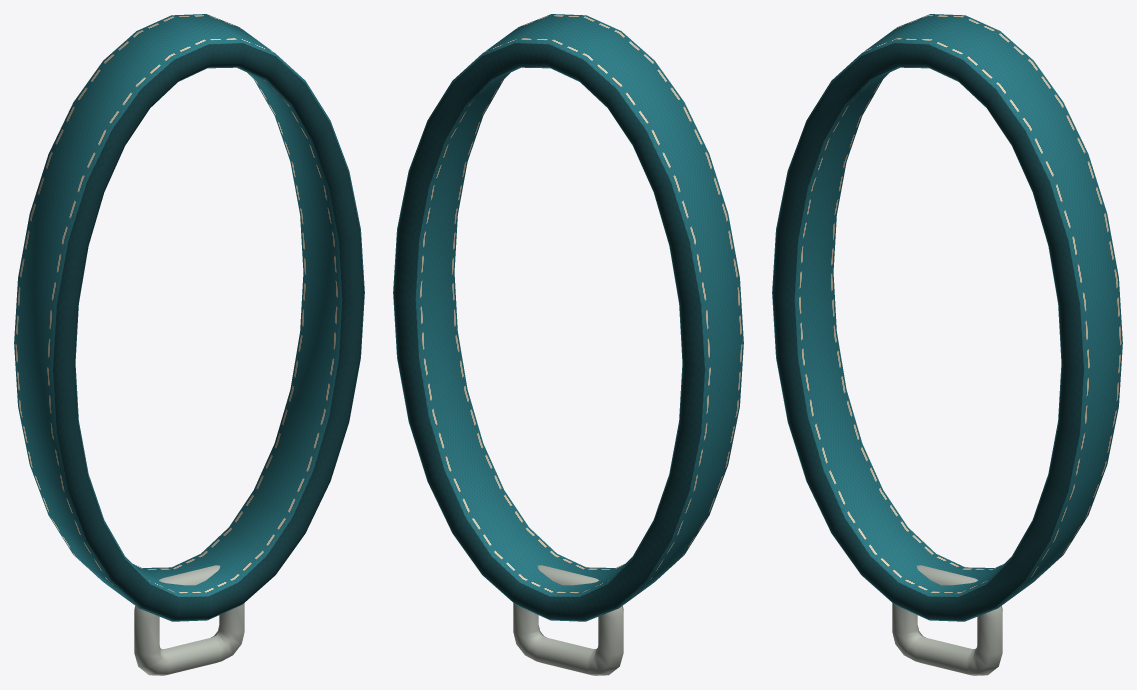
The model's file is KH_LeashHandle.fbx.
3 renders of one model, left to right at view 1: azimuth 30°, elevation 25°; view 2: azimuth 150°, elevation 25°; view 3: azimuth 330°, elevation 25°, orthographic.
Visible parts, largest first — view 1: KH_LeashHandle; view 2: KH_LeashHandle; view 3: KH_LeashHandle.
Part boxes in pixels (x1=…): KH_LeashHandle: x1=14, y1=14, x2=364, y2=675; KH_LeashHandle: x1=393, y1=14, x2=743, y2=675; KH_LeashHandle: x1=772, y1=14, x2=1122, y2=675.
Bounding box in the file's own units: 0.074 × 0.144 × 0.018.
Materials: 1 (1 with a texture image).
